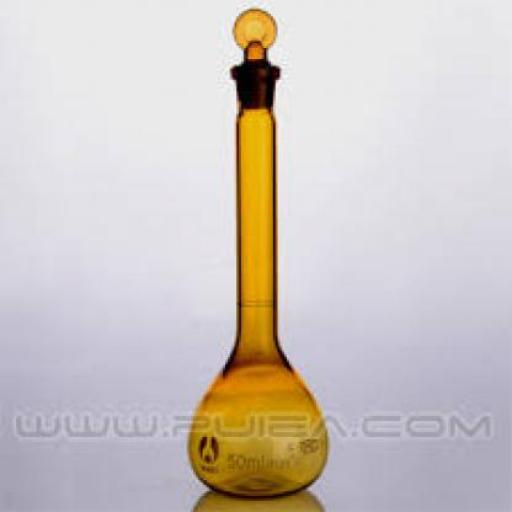glass: (186, 6, 328, 499)
